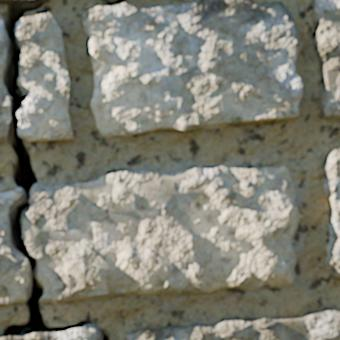brick: (83, 0, 301, 136), (126, 309, 339, 339), (315, 0, 339, 119), (324, 150, 339, 276), (0, 324, 101, 339), (0, 0, 48, 6)
broken_brick: (24, 165, 303, 304), (16, 12, 73, 142), (0, 188, 28, 304), (0, 78, 10, 142), (0, 19, 4, 74)
crack: (0, 2, 91, 337), (101, 332, 110, 339)
